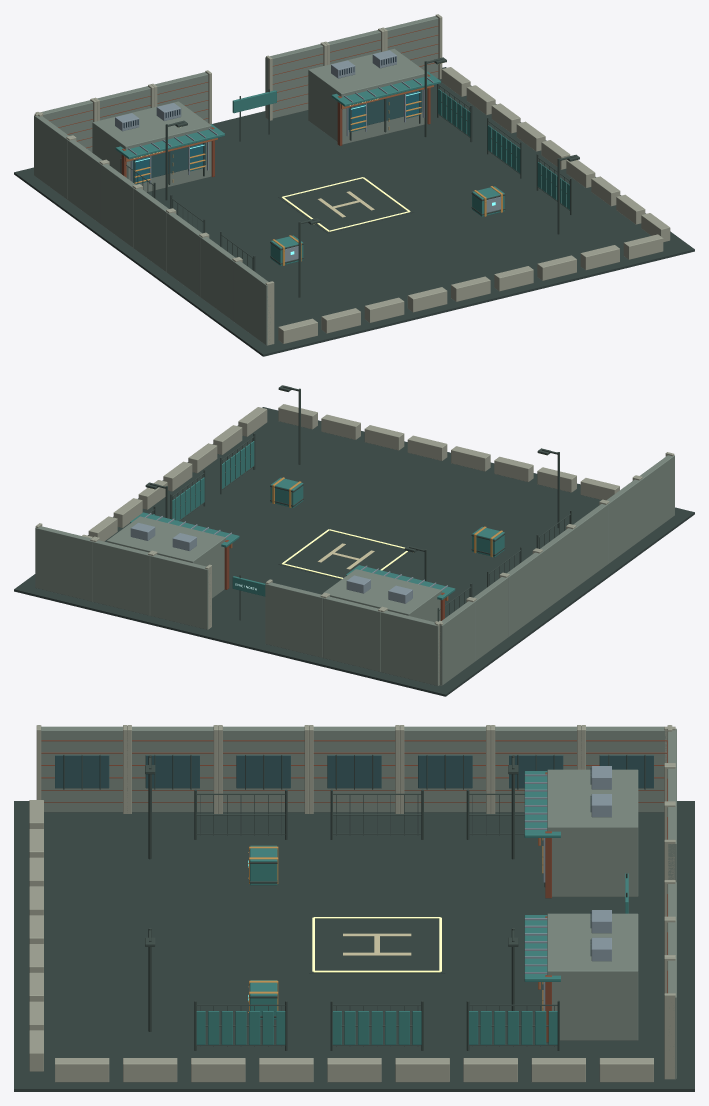
The model's file is chapter_evac.glb.
3 renders of one model, top to bottom at view 1: azimuth 30°, elevation 25°; view 2: azimuth 150°, elevation 25°; view 3: azimuth 270°, elevation 25°, orthographic. The views are drawn at different scales.
Visible parts, largest first — view 1: chapter_evac; view 2: chapter_evac; view 3: chapter_evac.
Part boxes in pixels (left/top/right/bottom): chapter_evac: left=14, top=14, right=694, bottom=356; chapter_evac: left=14, top=385, right=694, bottom=696; chapter_evac: left=14, top=725, right=694, bottom=1091.
Size of the model in its own units: 30 by 5.14 by 30.
